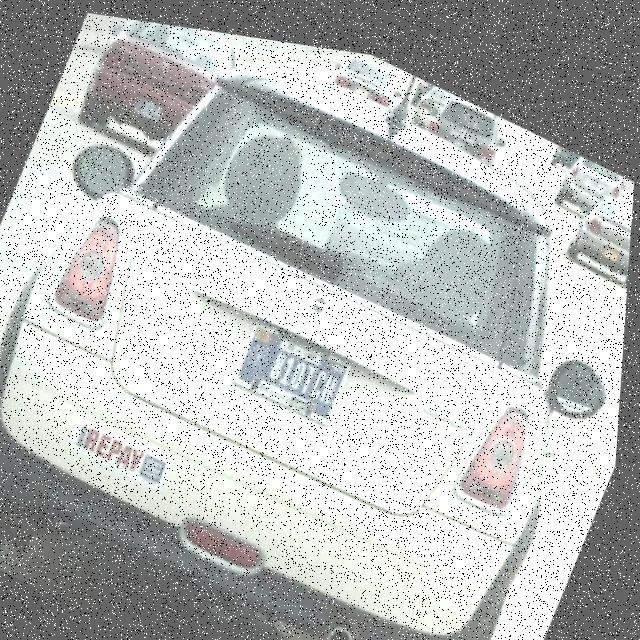license_plate: (235, 306, 358, 419), (132, 89, 167, 121), (582, 156, 608, 178), (604, 226, 624, 245), (353, 72, 372, 88)
